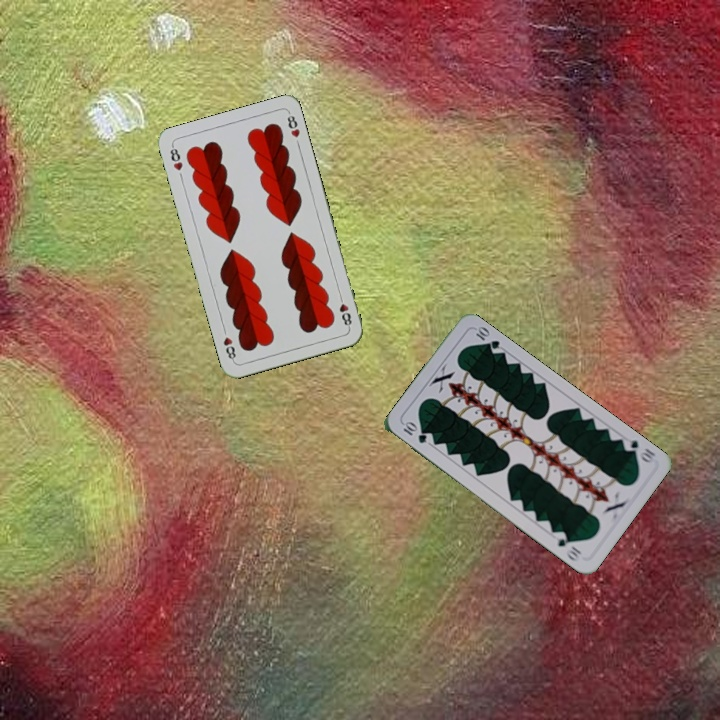G10: (619, 436, 658, 466), (399, 418, 429, 446)
H8: (335, 290, 354, 330), (166, 142, 185, 173)
